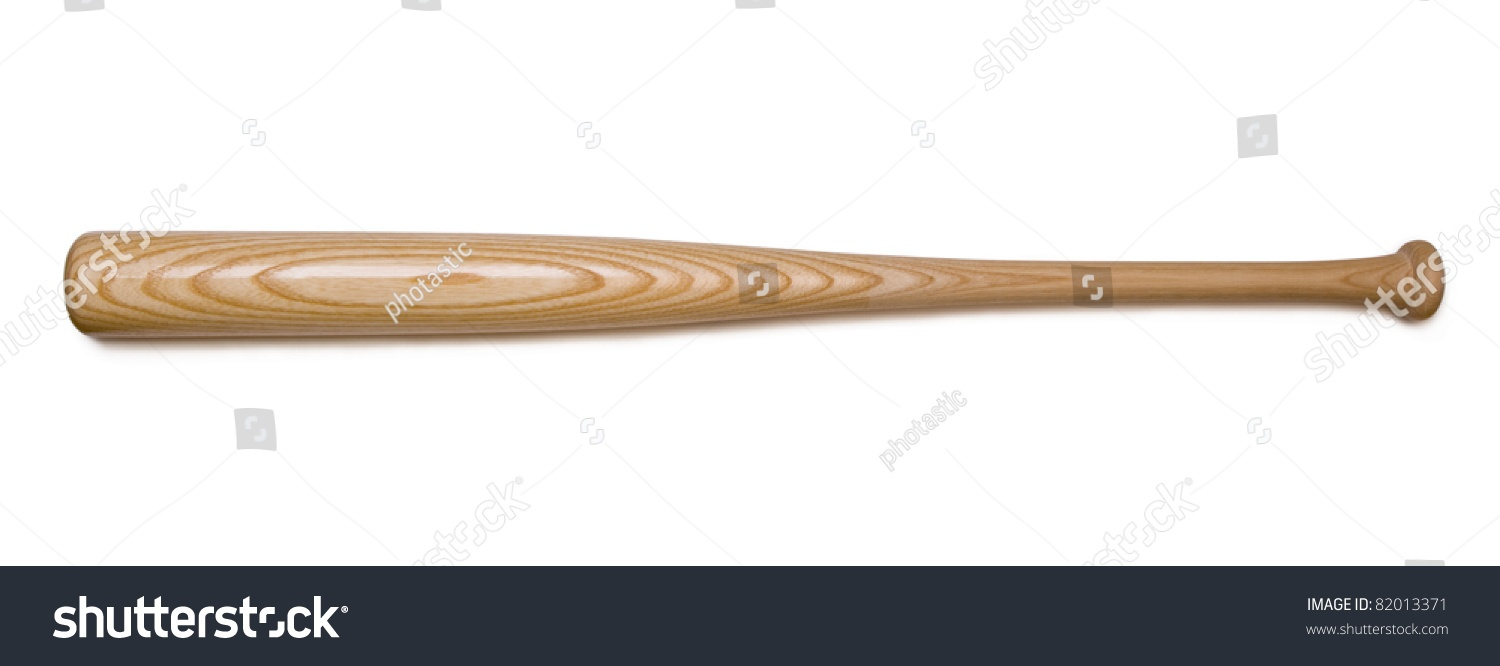bita: (80, 220, 1439, 328)
